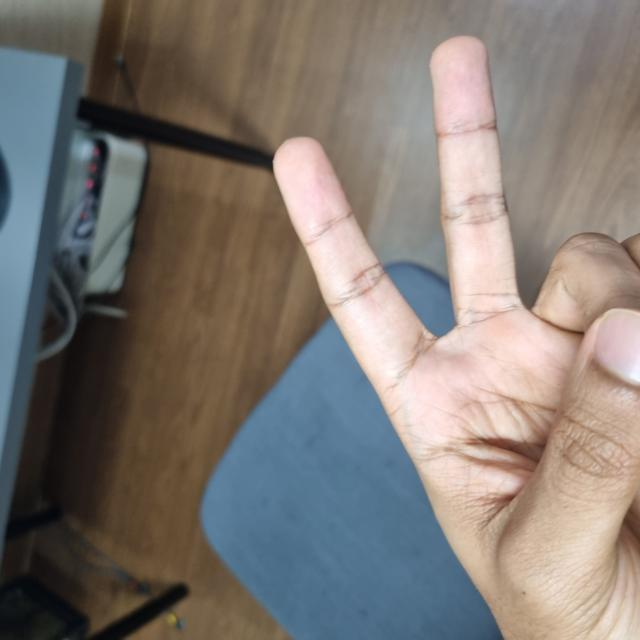Scissors: (1, 279, 600, 639)
